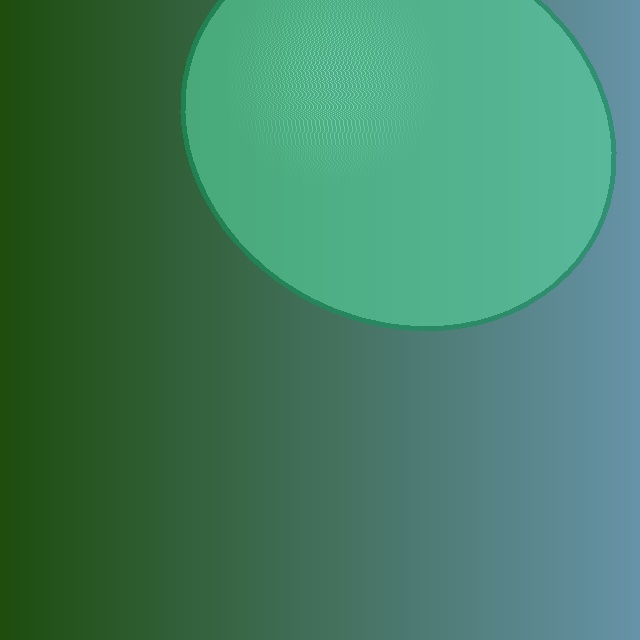lens: (184, 0, 612, 328)
